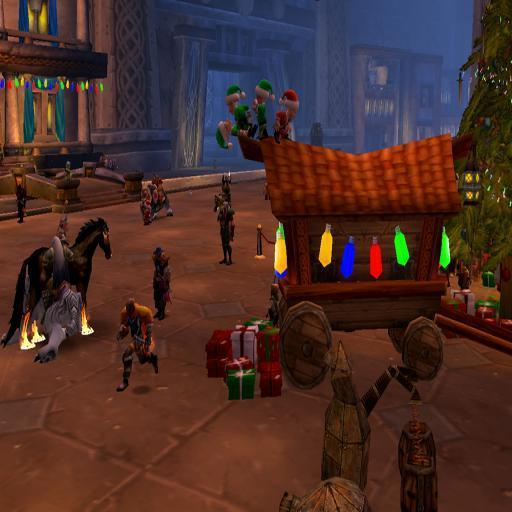horse: (0, 218, 112, 351)
